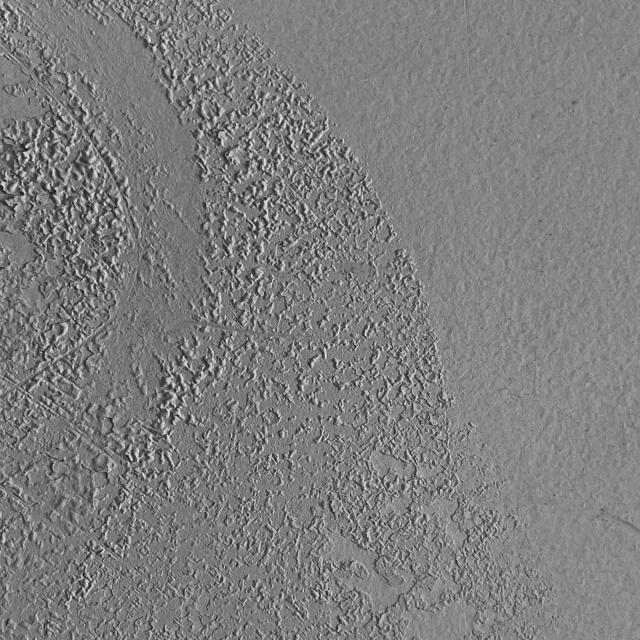rough and patchy surface: (0, 0, 244, 640), (244, 27, 371, 640), (371, 189, 457, 640), (459, 418, 554, 640)
